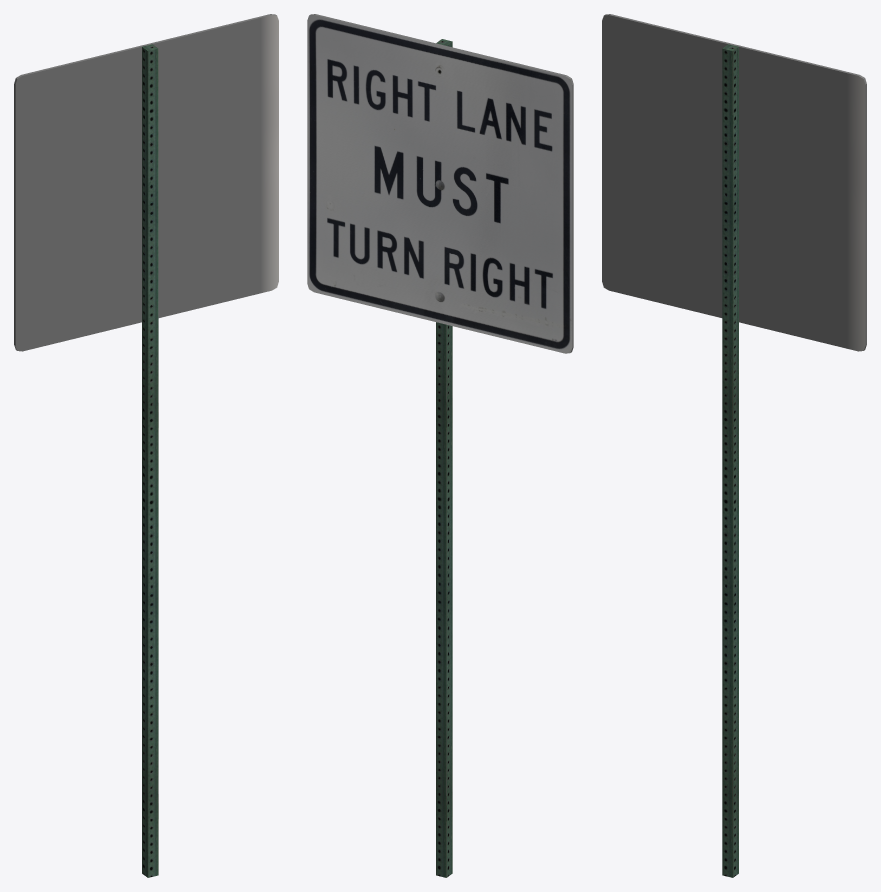
Rendered from GSDSignRightTurnOnly.FBX.
The picture shows the model from 3 angles, left to right: view 1: azimuth 30°, elevation 25°; view 2: azimuth 150°, elevation 25°; view 3: azimuth 330°, elevation 25°; orthographic projection.
Parts seen in each view (by area): view 1: GSDRightTurn; view 2: GSDRightTurn; view 3: GSDRightTurn.
Part boxes in pixels (box(x1,y1,x2,y2)): GSDRightTurn: box(14, 14, 278, 877); GSDRightTurn: box(307, 14, 573, 877); GSDRightTurn: box(602, 14, 866, 877).
Size of the model in its own units: 0.75 by 2.25 by 0.0371.
